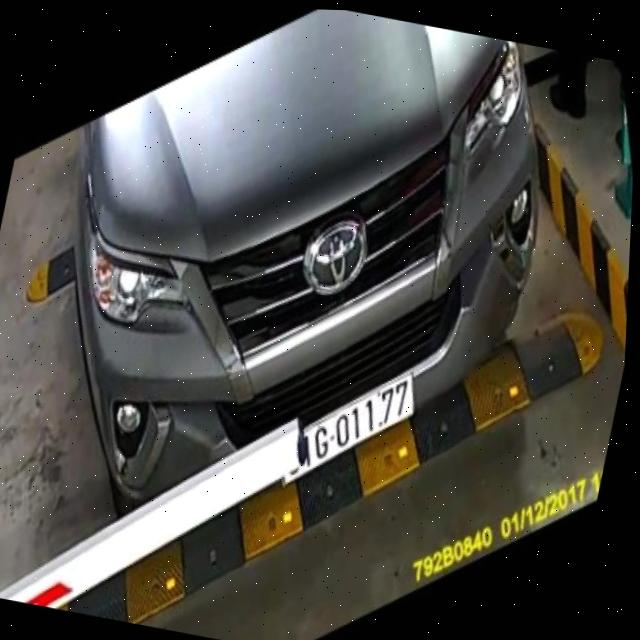car: (0, 1, 577, 587)
plate: (267, 352, 427, 508)
